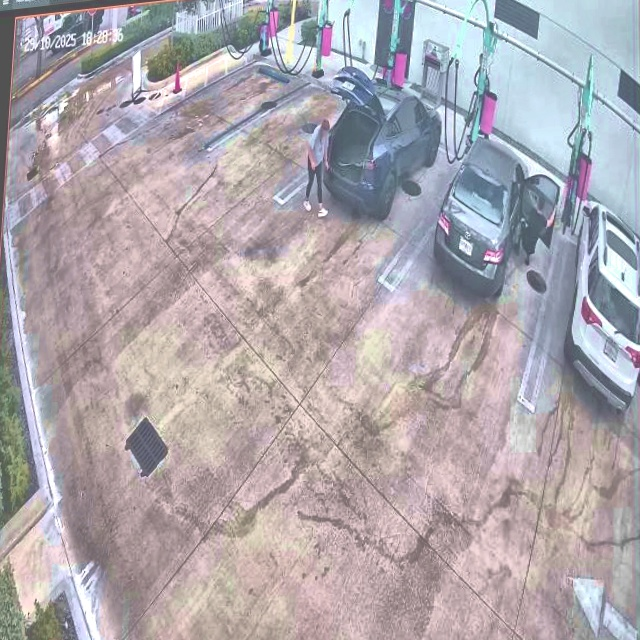Car: (324, 56, 443, 216), (434, 134, 554, 289)
